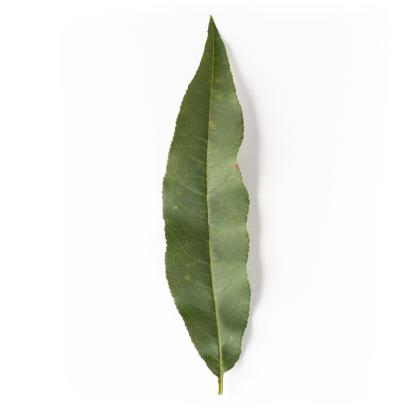peach leaf: (158, 11, 276, 408)
